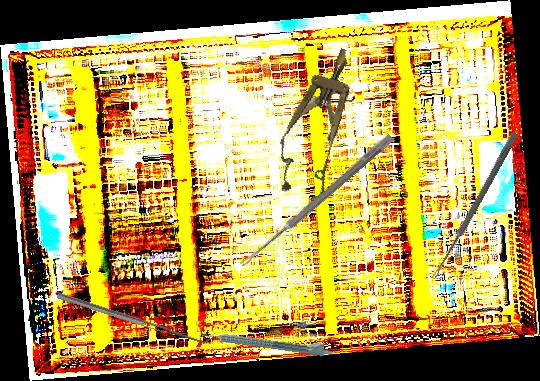Handpiece: (201, 324, 334, 359)
Spatula Surgical: (56, 286, 216, 349)
Speculum: (265, 39, 373, 205)
Surgical Spoon: (238, 132, 395, 270), (430, 131, 519, 281)
